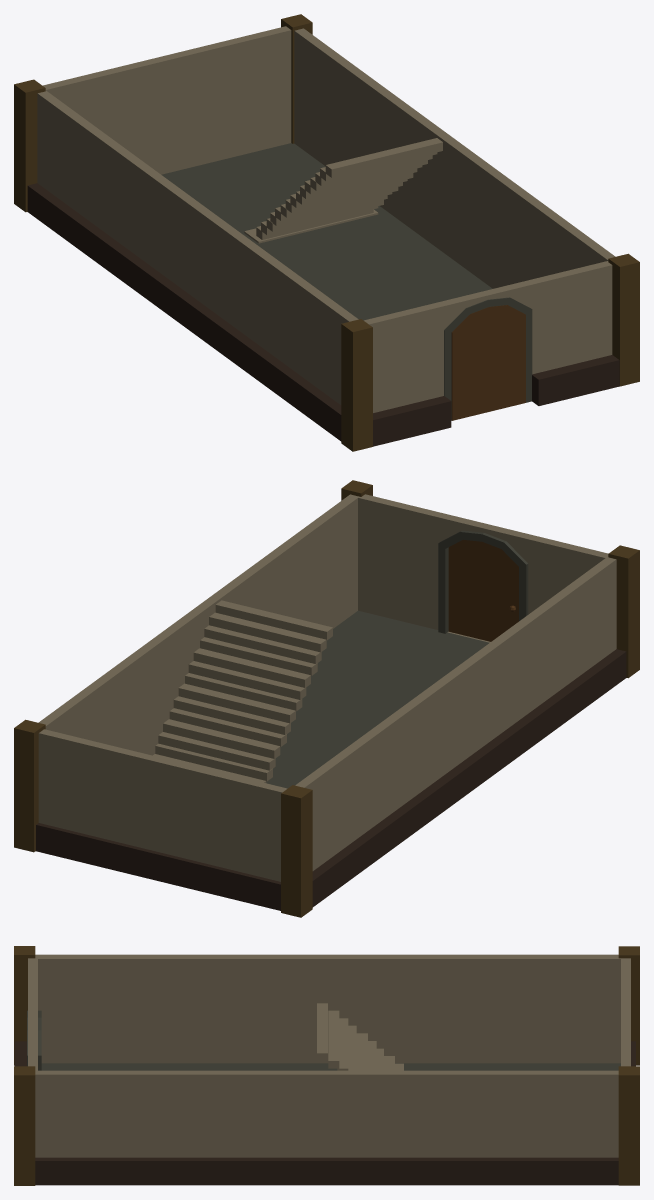
File: CajaCasa 2.5 Interior 1.fbx
3 renders of one model, top to bottom at view 1: azimuth 30°, elevation 25°; view 2: azimuth 150°, elevation 25°; view 3: azimuth 270°, elevation 25°, orthographic. The views are drawn at different scales.
Parts seen in each view (by area): view 1: Cube.005; view 2: Cube.005; view 3: Cube.005.
Boxes of the visible parts, box(x1,y1,x2,y2) form: Cube.005: box(14, 14, 639, 451); Cube.005: box(14, 480, 639, 917); Cube.005: box(14, 946, 639, 1185).
Bounding box in the file's own units: 694 × 295 × 1419.
